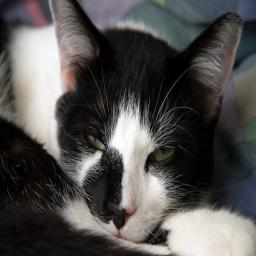catnose: (106, 198, 136, 231)
